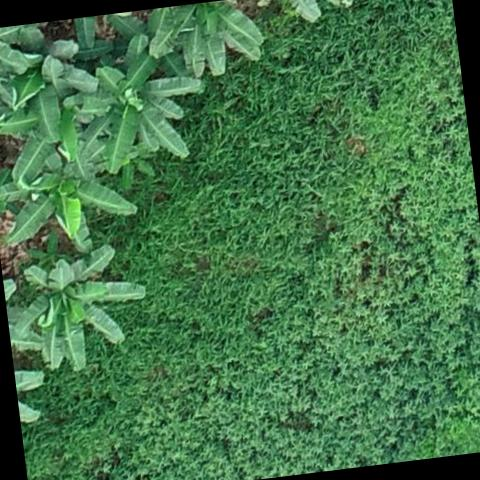Banana-plant: (11, 236, 155, 377), (80, 40, 213, 170), (0, 124, 126, 255), (0, 27, 100, 140)
